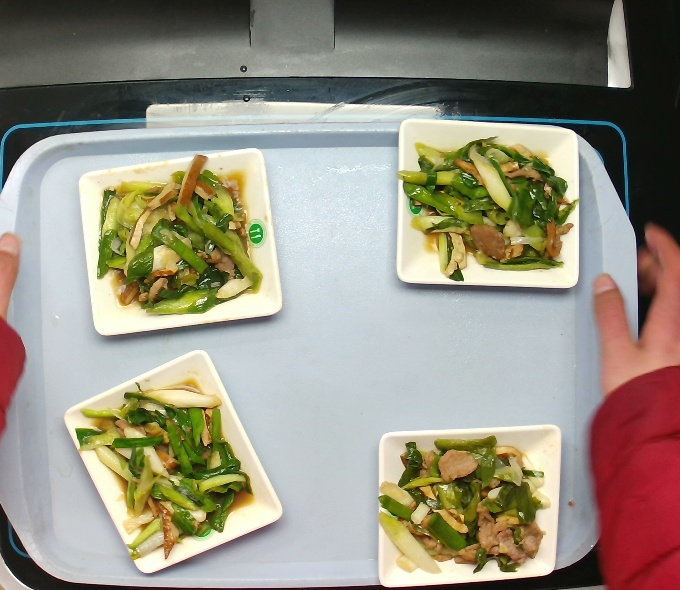wcq-SuanYeChaoRou: (70, 374, 261, 570), (391, 131, 586, 290), (88, 150, 269, 320), (369, 429, 556, 582)
